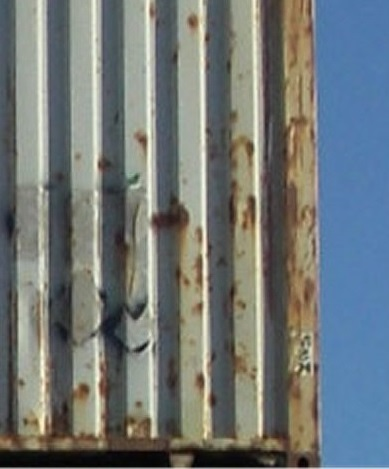container_no_door: (1, 1, 315, 452)
